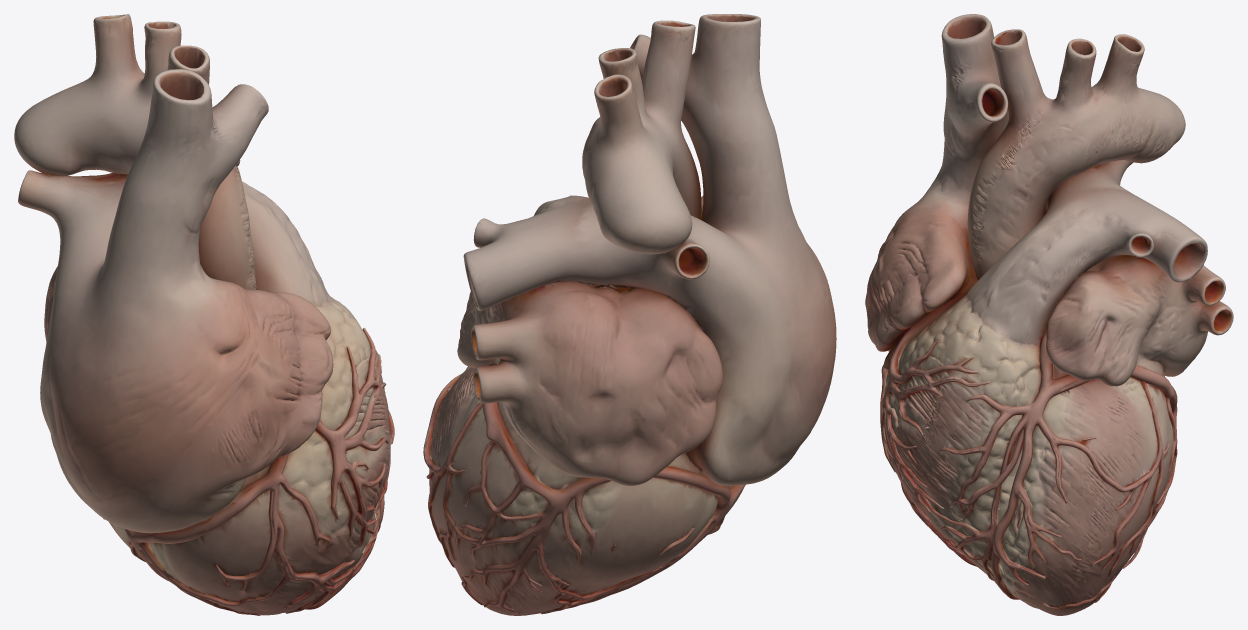
The model's file is heart-mobile.glb.
The picture shows the model from 3 angles, left to right: view 1: azimuth 30°, elevation 25°; view 2: azimuth 150°, elevation 25°; view 3: azimuth 270°, elevation 25°; orthographic projection. The views are drawn at different scales.
Parts seen in each view (by area): view 1: Object_2; view 2: Object_2; view 3: Object_2.
Part boxes in pixels (<box>): Object_2: <box>14,14,394,615</box>; Object_2: <box>423,14,836,615</box>; Object_2: <box>865,14,1233,615</box>.
Bounding box in the file's own units: 0.581 × 0.9813 × 0.6264.
